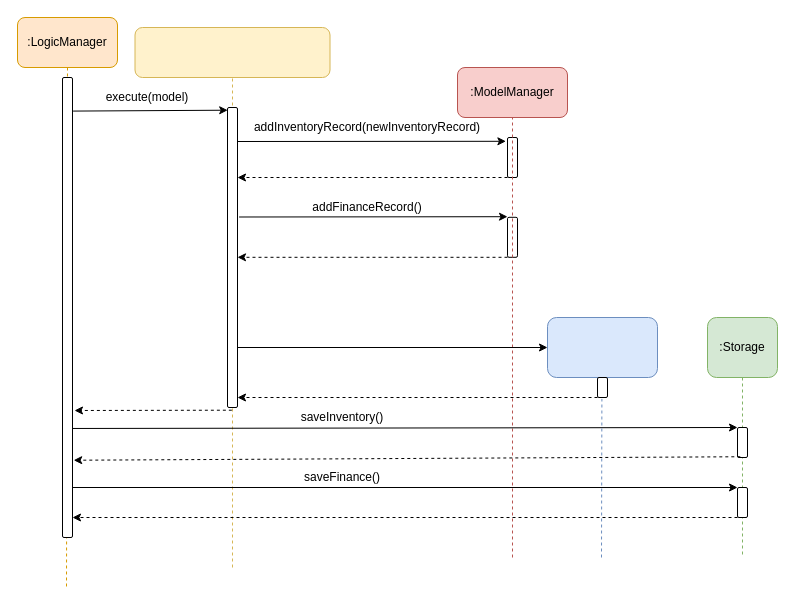
The diagram is 795 pixels wide and 606 high, and some of its shapes have lost their labels. Each missing label, with the box of its shape:
:CommandResult: (546, 316, 658, 378)
:CreateInventoryRecordCommand: (134, 26, 330, 78)
